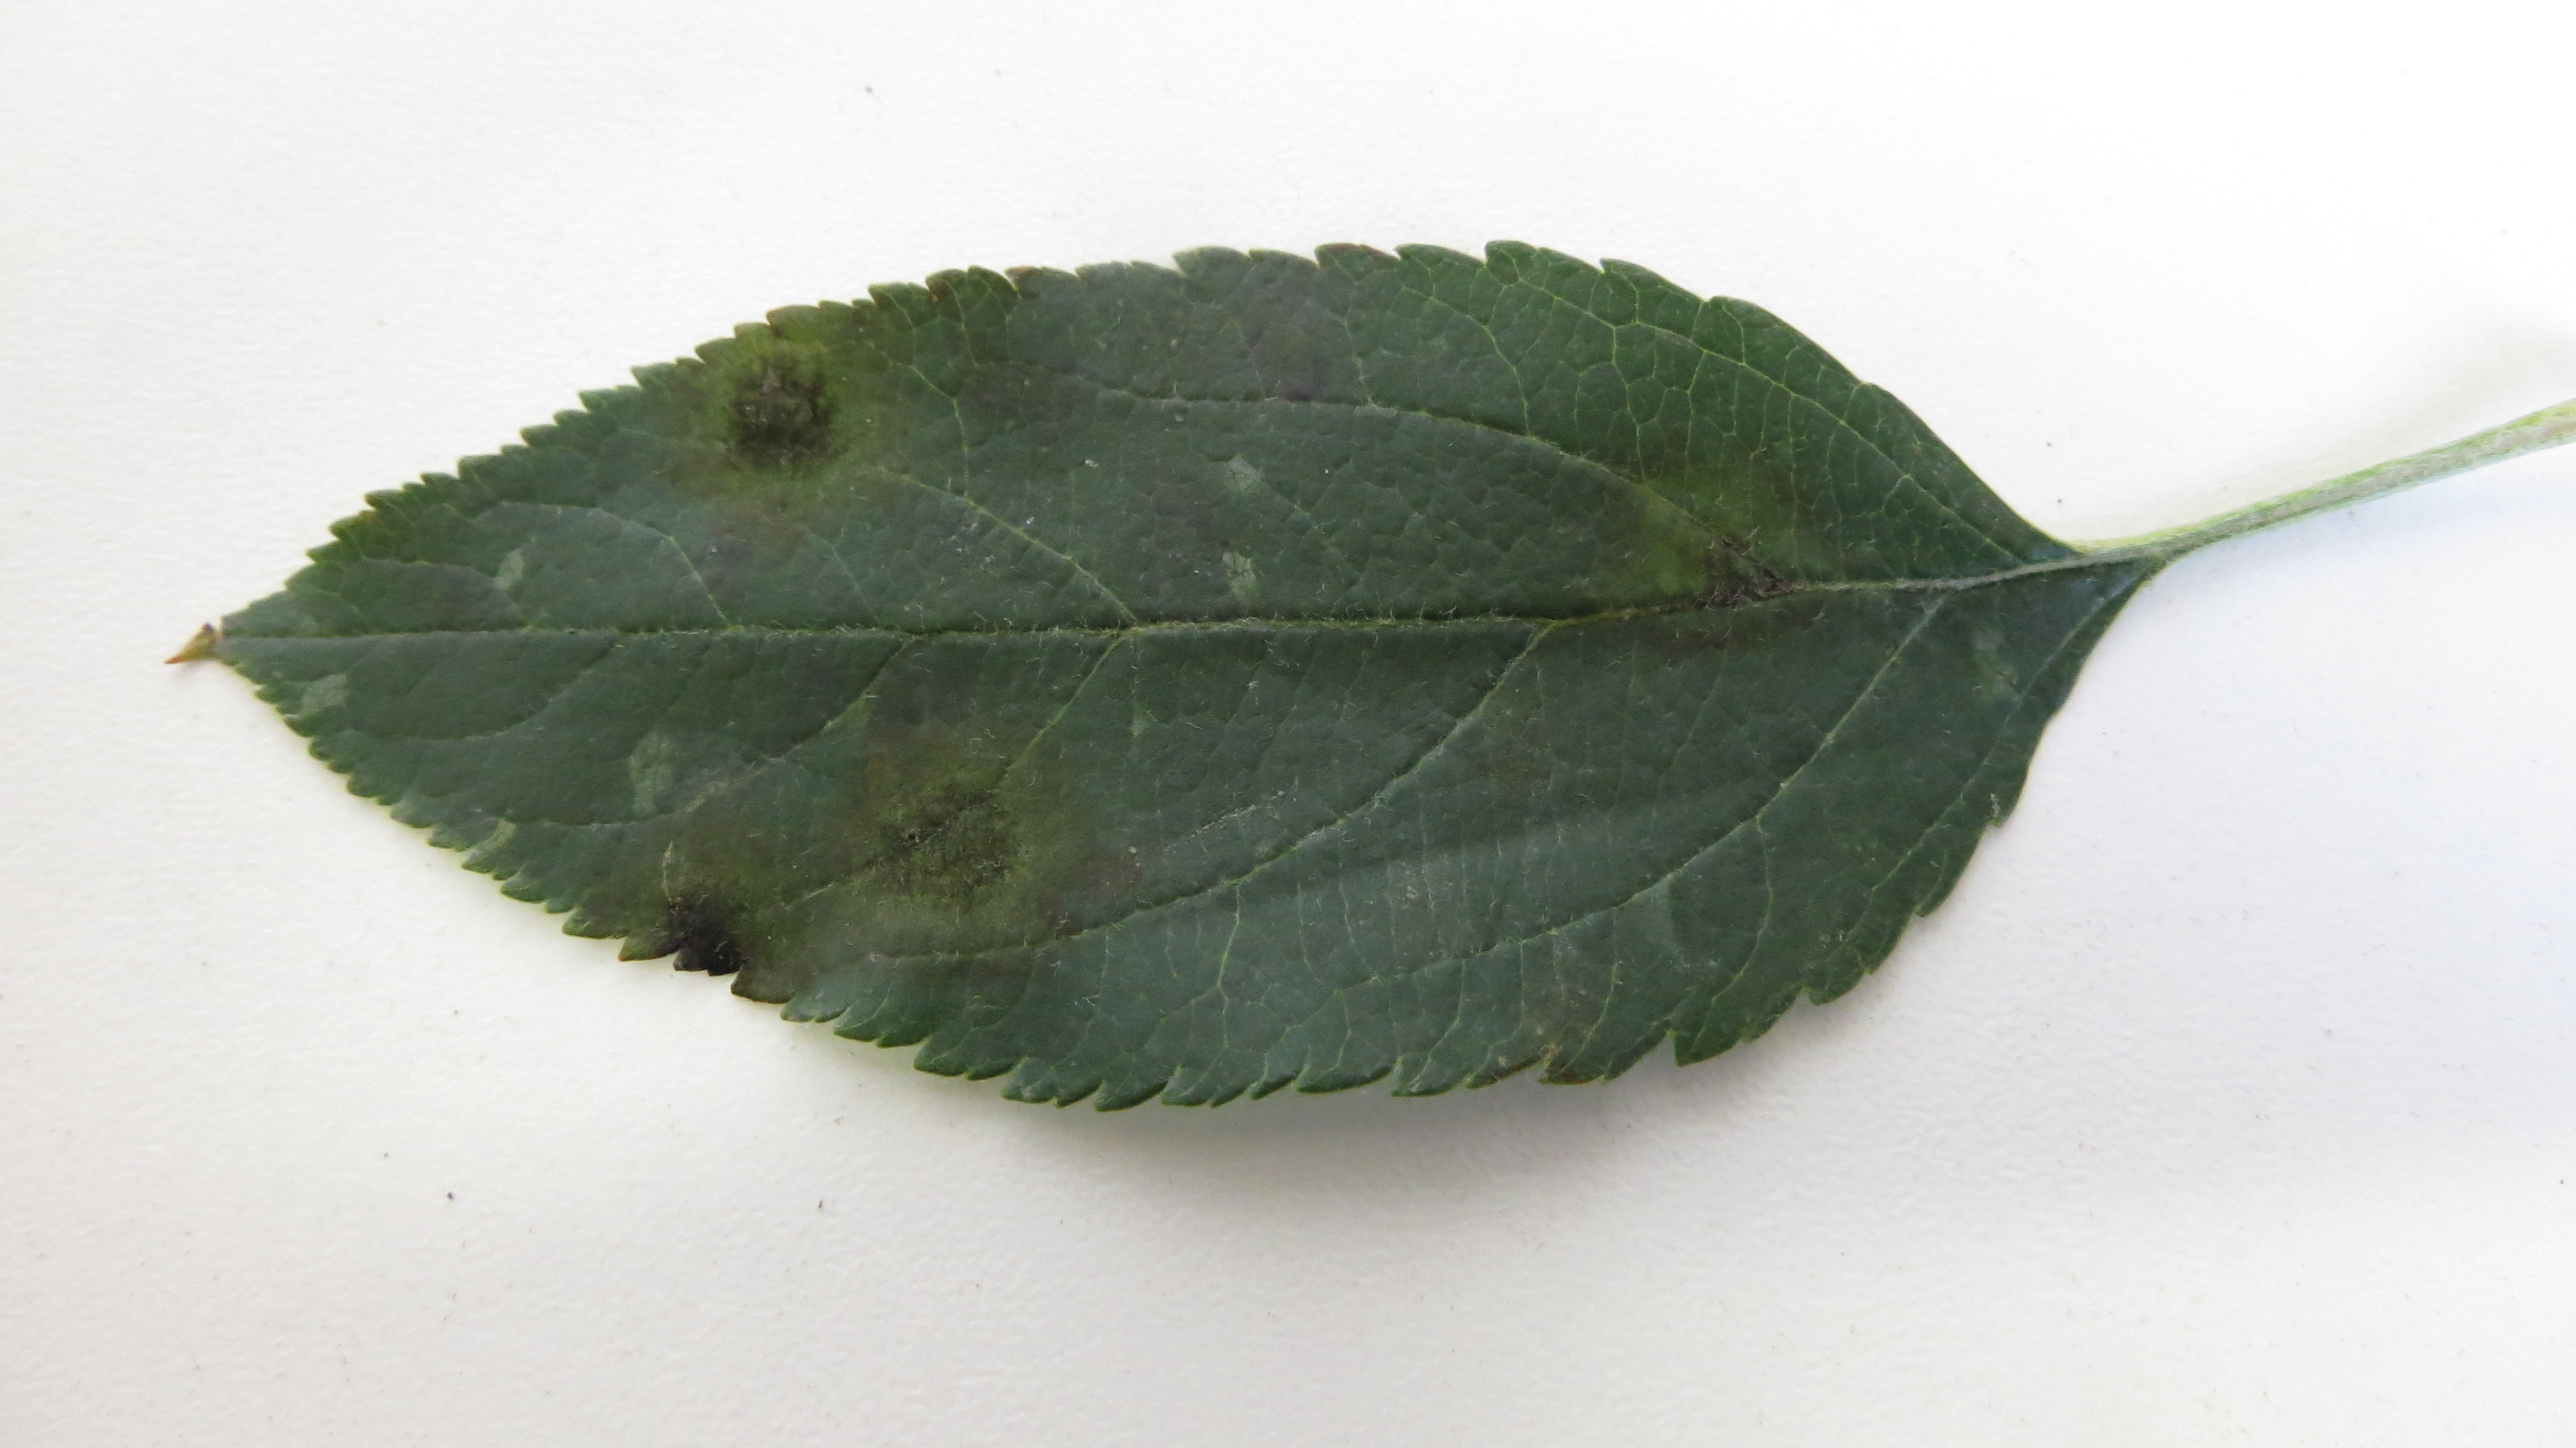sarna: (839, 719, 1069, 935), (623, 850, 800, 1011), (708, 338, 872, 501), (1106, 457, 1267, 611), (950, 304, 1100, 460), (1667, 512, 1828, 632), (1221, 269, 1346, 423), (1520, 938, 1624, 1076), (1359, 823, 1461, 944), (1576, 565, 1686, 666), (617, 729, 725, 816), (280, 644, 366, 735), (1062, 825, 1154, 906), (483, 522, 548, 609)
